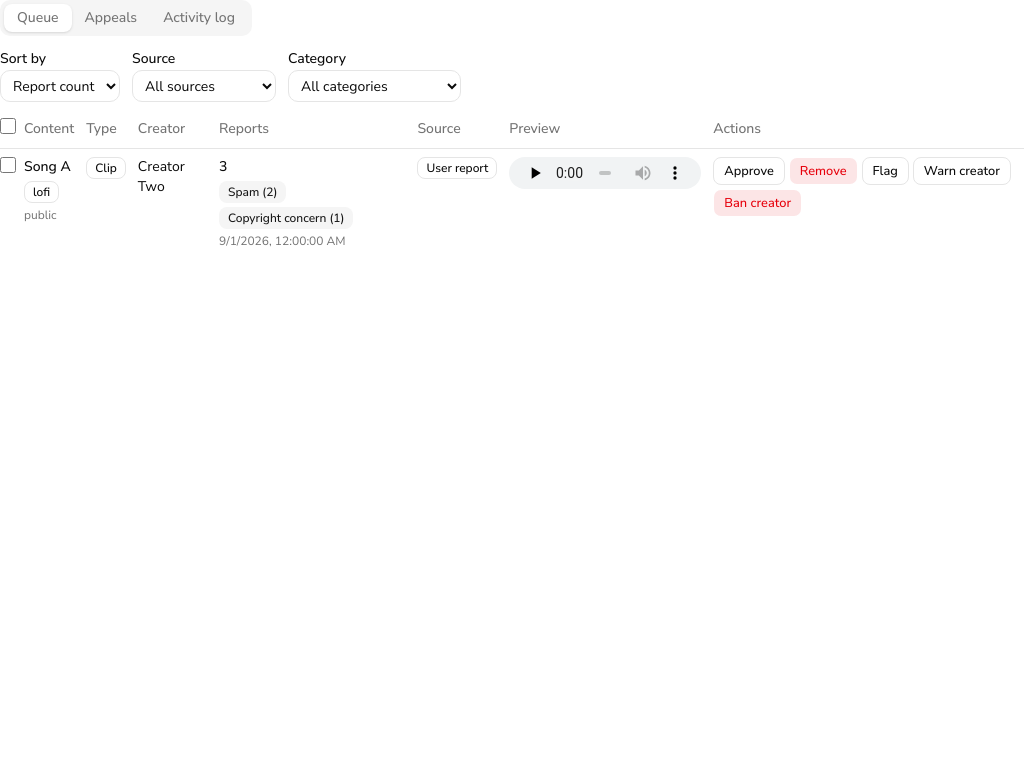
Test case: ModerationDashboard › asks for confirmation before removing, and sends the reason (AC3)
Click the button "Remove". click: (823, 171)
box: [789,157,858,185]
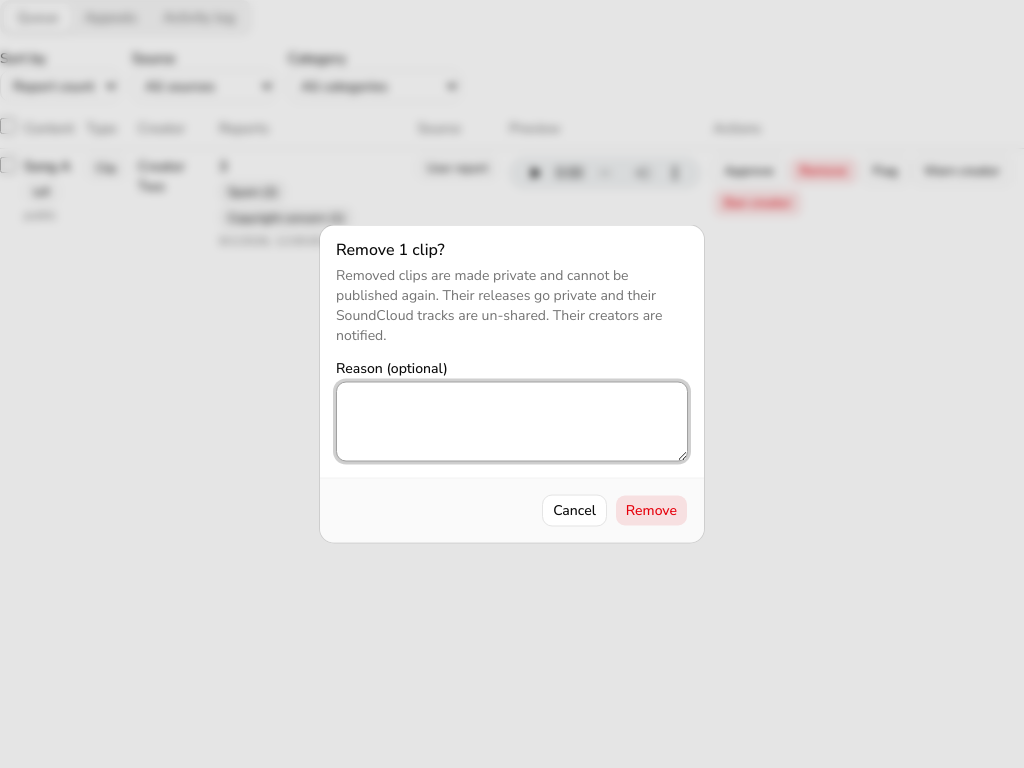
Type "stolen beat" into the text box labelled "Reason (optional)". click: (512, 422)
box: [336,382,688,462]
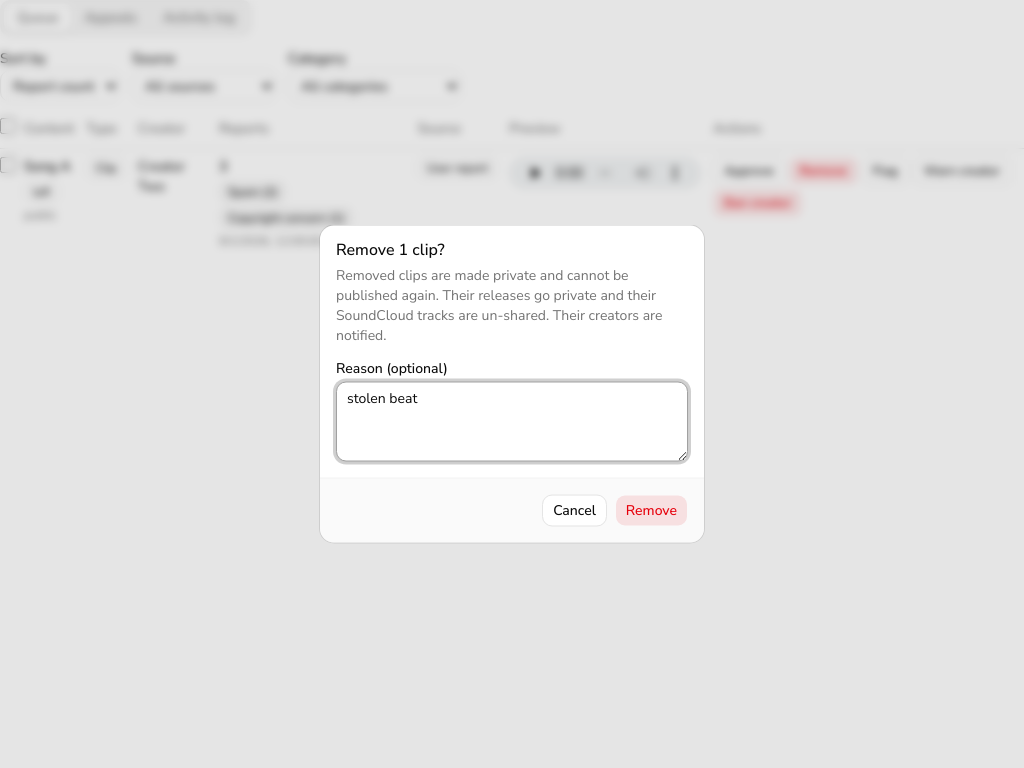
Click the button "Remove". click: (651, 510)
box: [615,494,688,526]
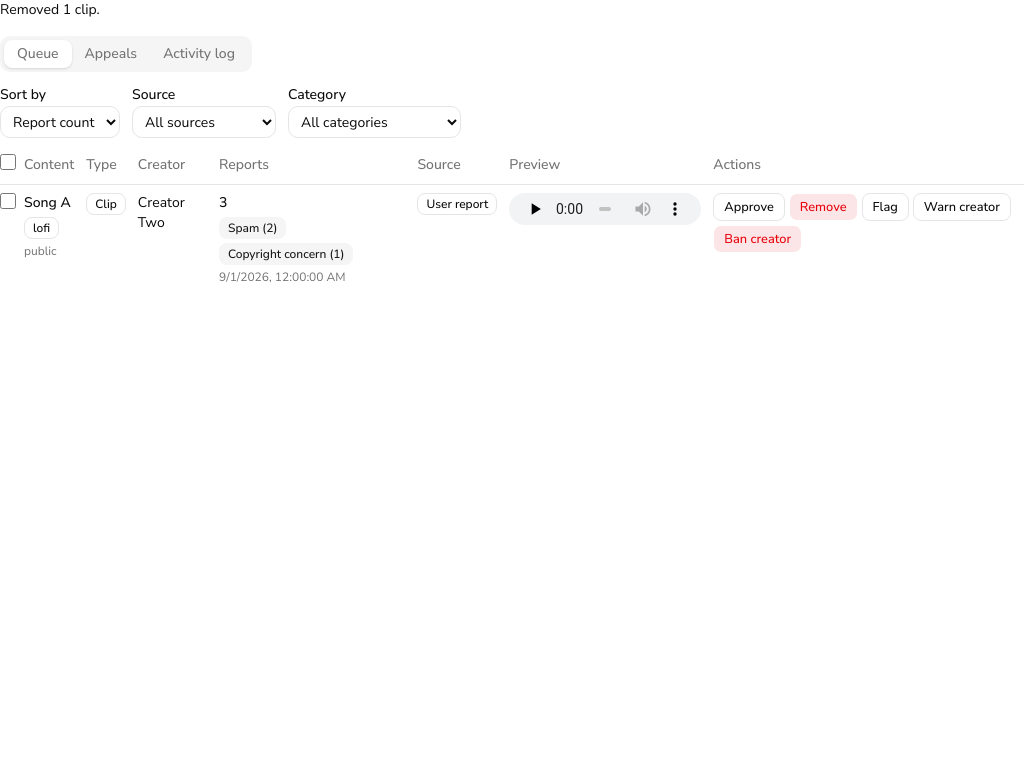
Expected: the message reads "Removed 1 clip.", [0,0,100,19]
Expected: the dialog is gone
